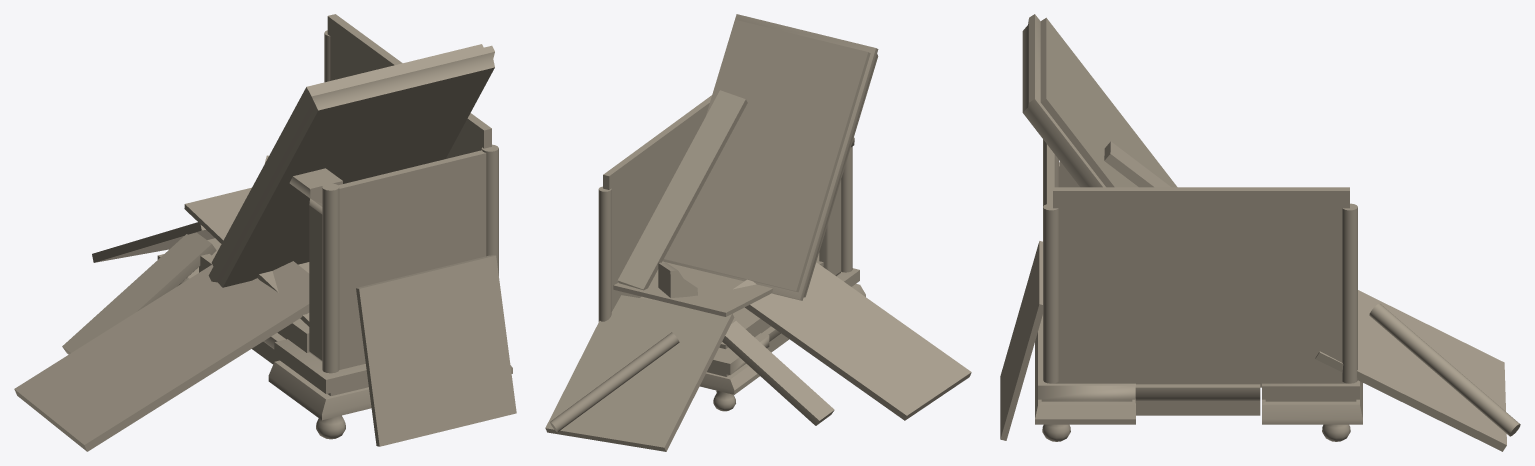
The model's file is Cupboard_09_Break_Lod0.fbx.
The picture shows the model from 3 angles, left to right: view 1: azimuth 30°, elevation 25°; view 2: azimuth 150°, elevation 25°; view 3: azimuth 270°, elevation 25°; orthographic projection. The views are drawn at different scales.
Visible parts, largest first — view 1: Cupboard_09_Break_Lod0; view 2: Cupboard_09_Break_Lod0; view 3: Cupboard_09_Break_Lod0.
Part boxes in pixels (x1=…): Cupboard_09_Break_Lod0: x1=14, y1=14, x2=516, y2=451; Cupboard_09_Break_Lod0: x1=545, y1=14, x2=971, y2=451; Cupboard_09_Break_Lod0: x1=1000, y1=14, x2=1520, y2=451.
Bounding box in the file's own units: 126 × 117 × 157.
